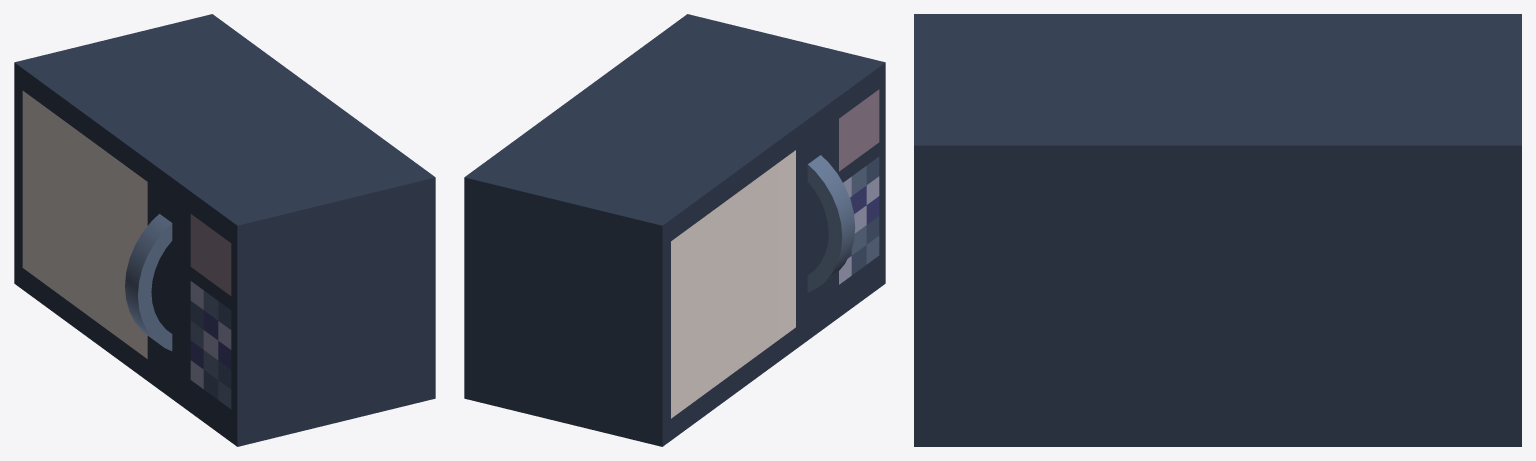
Rendered from _icrowave.fbx.
The picture shows the model from 3 angles, left to right: view 1: azimuth 30°, elevation 25°; view 2: azimuth 150°, elevation 25°; view 3: azimuth 270°, elevation 25°; orthographic projection. The views are drawn at different scales.
Parts seen in each view (by area): view 1: Body, Microwave_Door, Handle; view 2: Body, Microwave_Door, Handle; view 3: Body, Microwave_Door.
Boxes of the visible parts, x1,y1,x2,y2 form: Body: (40, 14, 435, 446); Microwave_Door: (14, 56, 208, 407); Handle: (125, 214, 172, 350); Body: (464, 14, 885, 440); Microwave_Door: (637, 95, 832, 446); Handle: (807, 155, 855, 292); Body: (914, 14, 1521, 446); Microwave_Door: (1058, 14, 1521, 30).
Size of the model in its own units: 0.0117 by 0.0107 by 0.0195.
